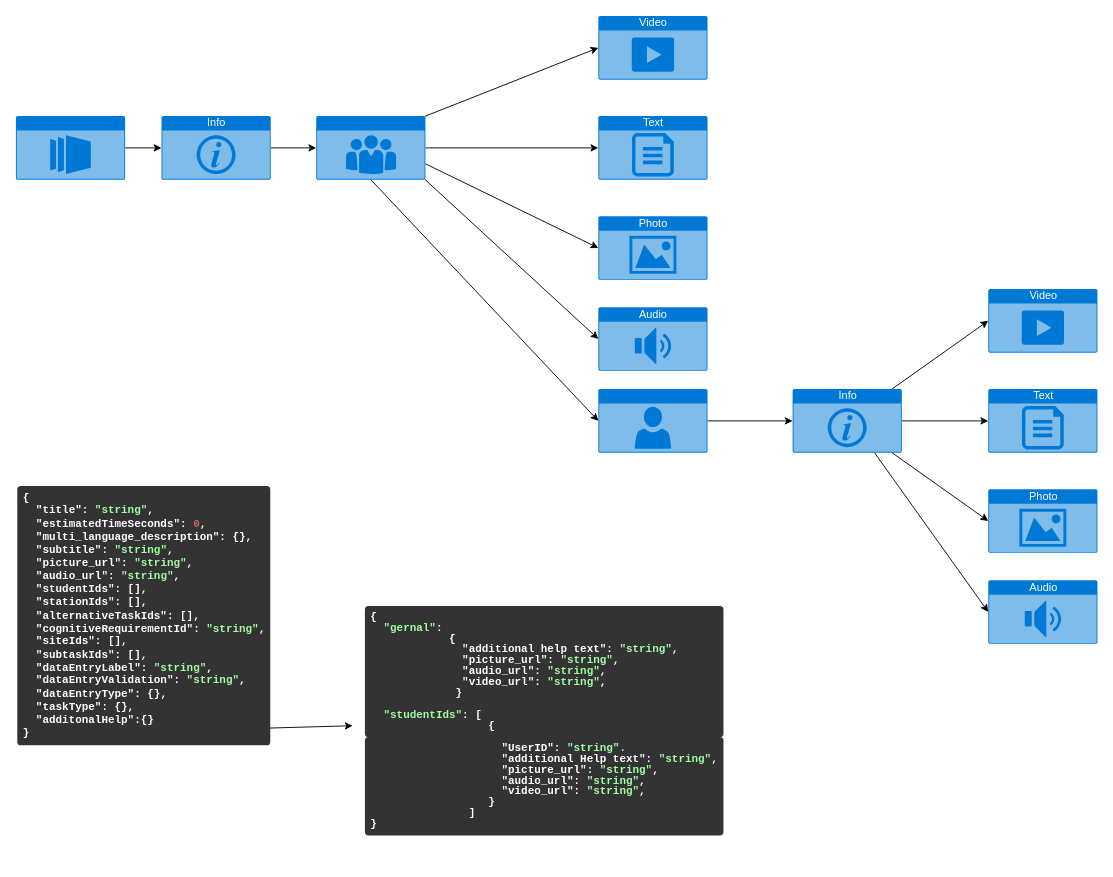
This 1113x877 diagram has some shape labels left out. Here are the shapes that lost their labels. From the top down, the box of each, then its label:
(15, 116, 125, 179): Task
(316, 116, 425, 179): Gernal
(598, 389, 707, 452): User
